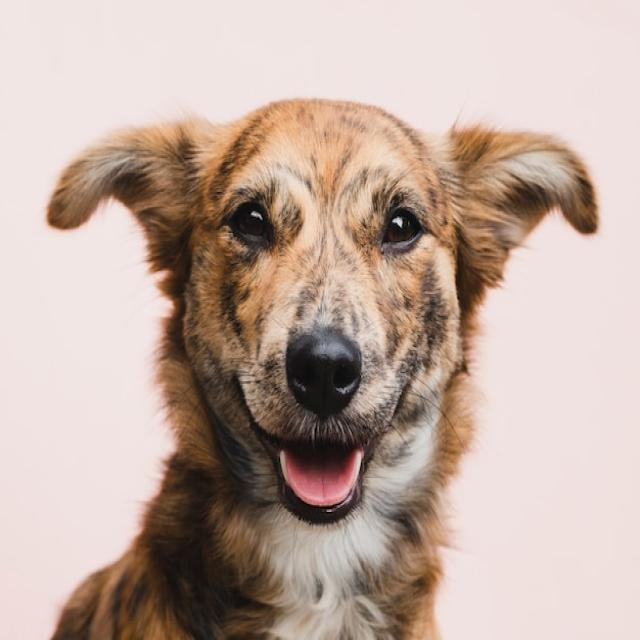Dog: (45, 95, 598, 640)
